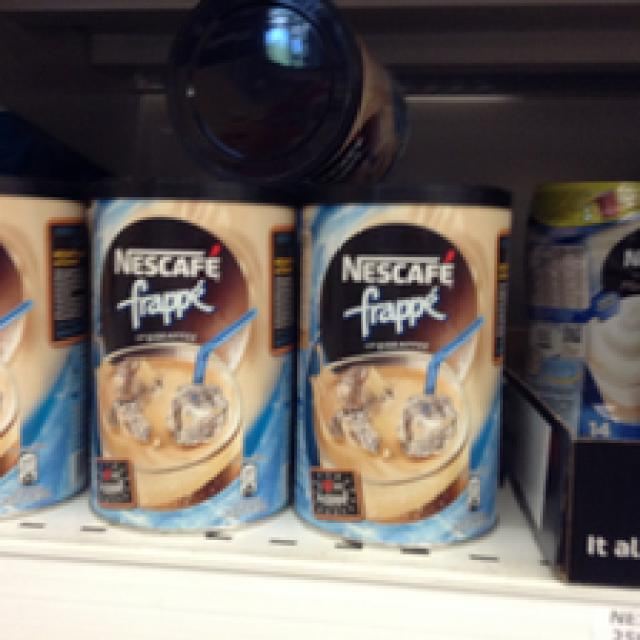groceries: (292, 186, 514, 540), (83, 174, 288, 529), (160, 0, 409, 189)
